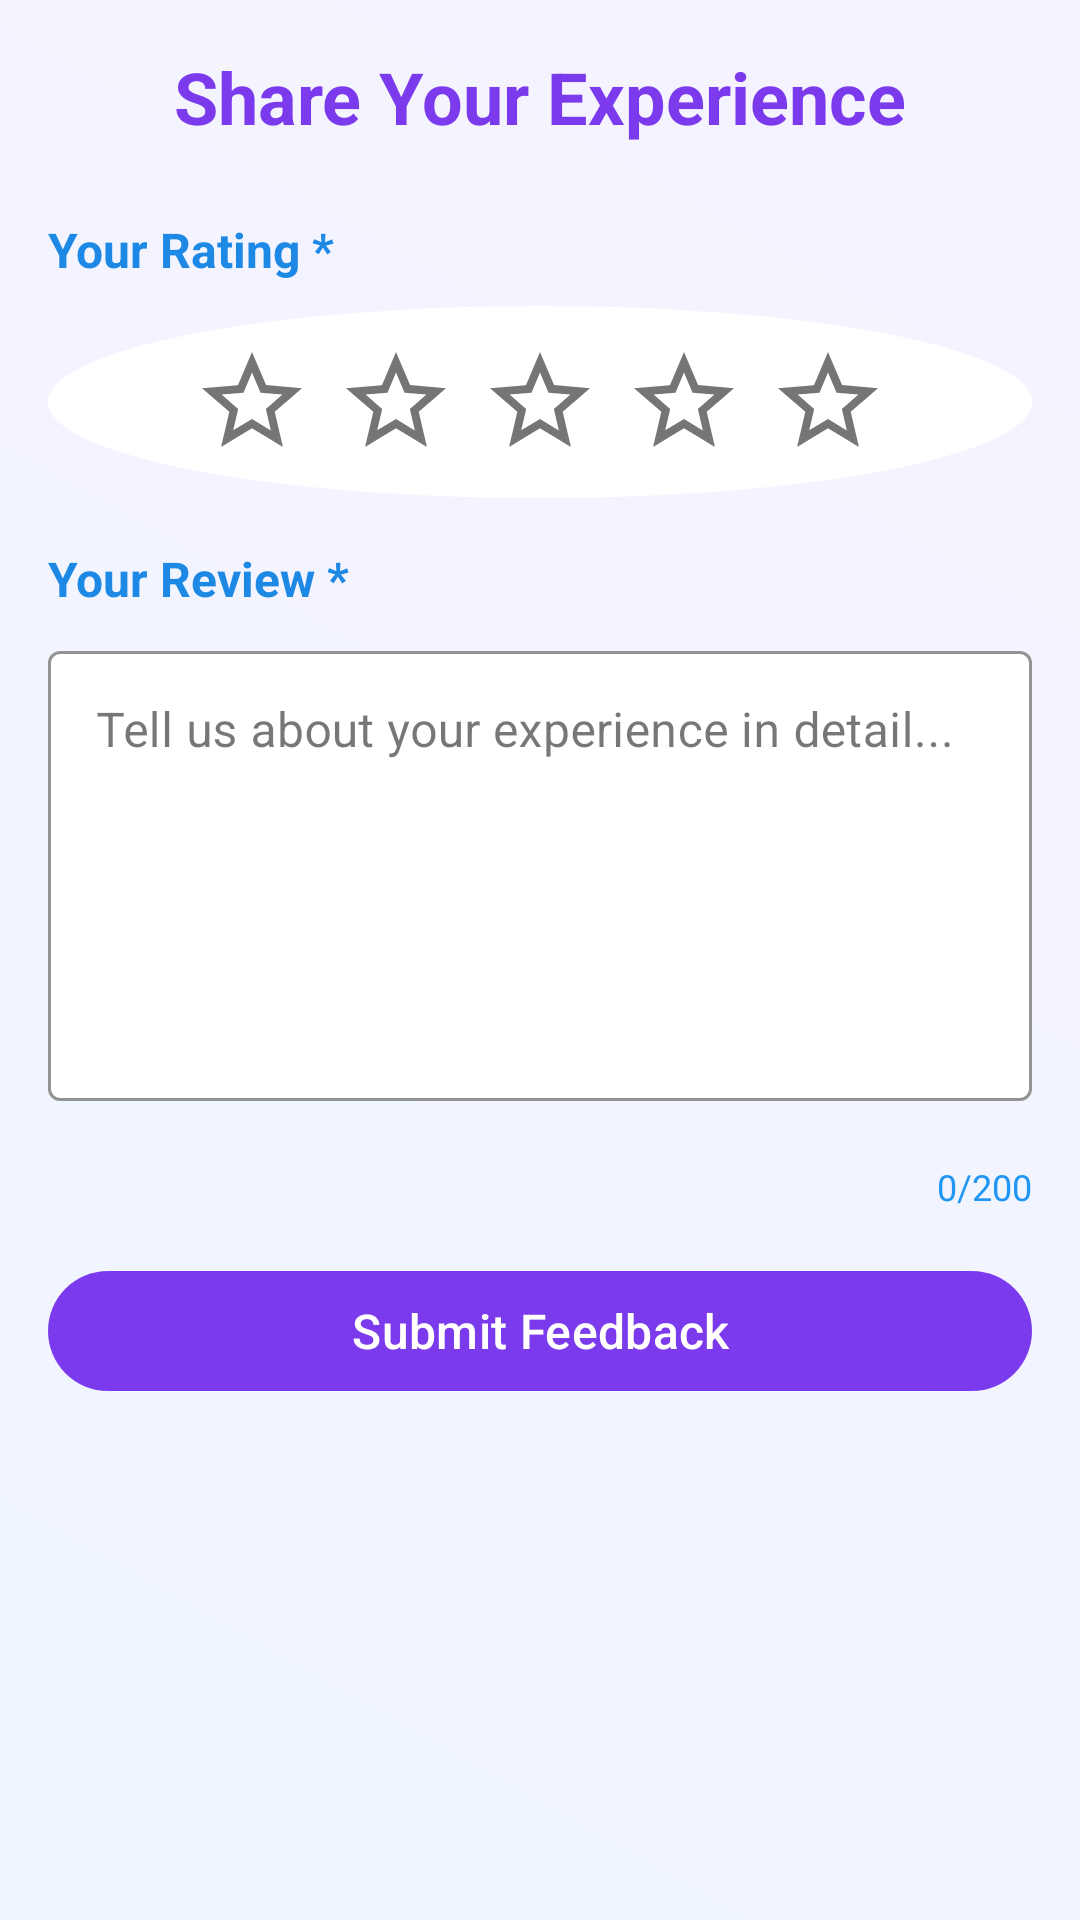

Screen size 1080px x 1920px. Icon name, then its center in pixels as (x=x, y=y):
empty star: (x=252, y=399), (x=396, y=399), (x=540, y=399), (x=684, y=399), (x=828, y=399)
